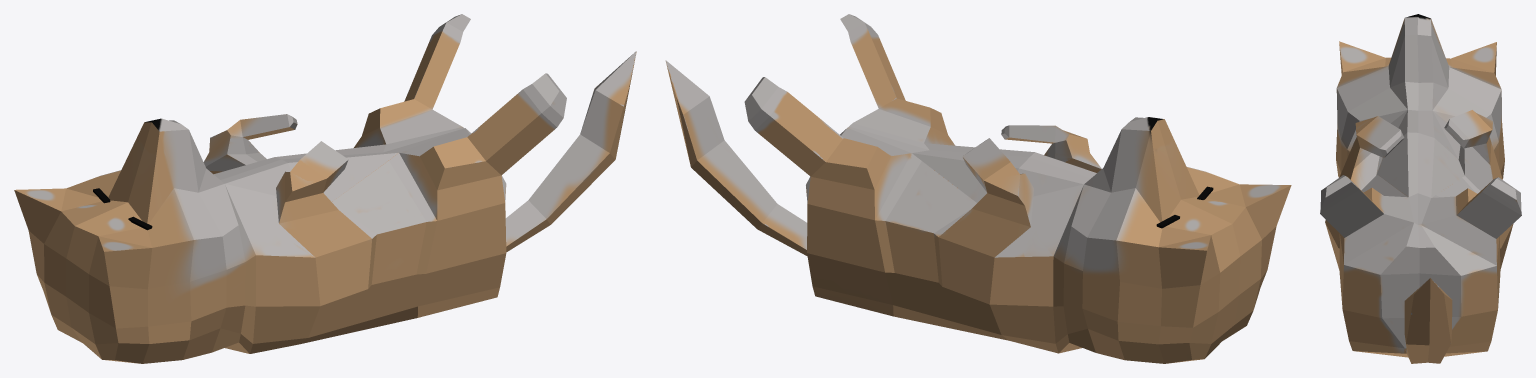
Rendered from low_poly_shiba_inu.glb.
3 renders of one model, left to right at view 1: azimuth 30°, elevation 25°; view 2: azimuth 150°, elevation 25°; view 3: azimuth 270°, elevation 25°, orthographic. The views are drawn at different scales.
Visible parts, largest first — view 1: Object_2; view 2: Object_2; view 3: Object_2.
Boxes of the visible parts, left/top/right/bottom form: Object_2: left=14, top=14, right=636, bottom=363; Object_2: left=665, top=14, right=1291, bottom=363; Object_2: left=1320, top=14, right=1521, bottom=363.
Size of the model in its own units: 7.6 by 2.81 by 2.52.
Materials: 1 (1 with a texture image).
